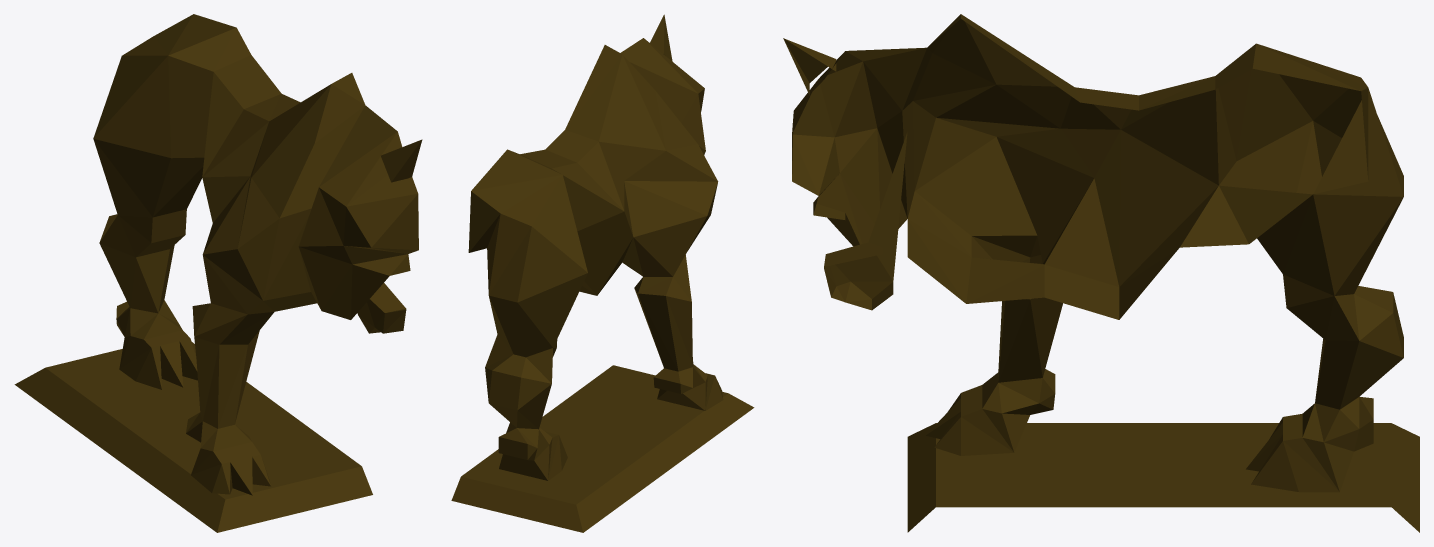
The model's file is model_loc_546_8.obj.
3 renders of one model, left to right at view 1: azimuth 30°, elevation 25°; view 2: azimuth 150°, elevation 25°; view 3: azimuth 270°, elevation 25°, orthographic. The views are drawn at different scales.
Parts seen in each view (by area): view 1: 725; view 2: 725; view 3: 725.
Boxes of the visible parts, bbox=[...] form: 725: bbox=[14, 14, 422, 532]; 725: bbox=[451, 14, 754, 532]; 725: bbox=[783, 14, 1419, 532].
Bounding box in the file's own units: 128 × 319 × 358.
